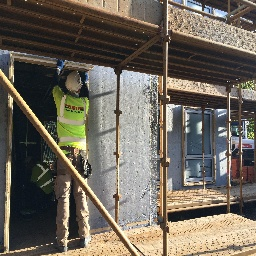helmet: (63, 68, 85, 95)
person: (54, 57, 91, 256)
vest: (57, 91, 89, 161)
